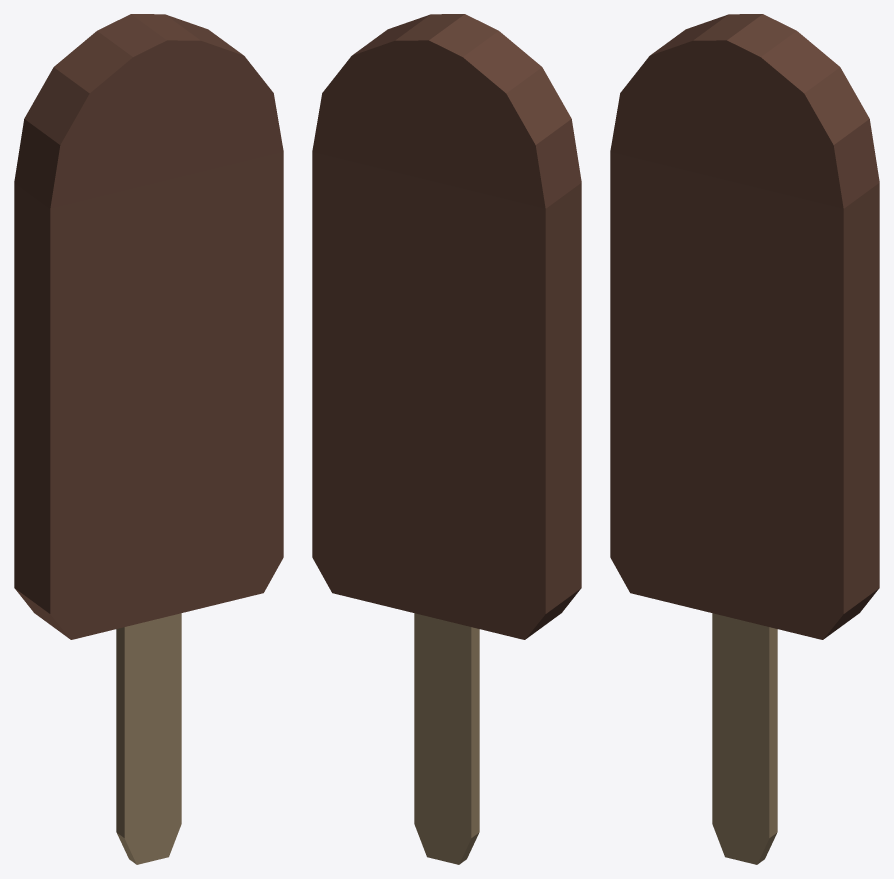
The model's file is quaternius-ultimate-food-popsicle-chocolate.glb.
The picture shows the model from 3 angles, left to right: view 1: azimuth 30°, elevation 25°; view 2: azimuth 150°, elevation 25°; view 3: azimuth 330°, elevation 25°; orthographic projection.
Parts seen in each view (by area): view 1: Popsicle_Chocolate; view 2: Popsicle_Chocolate; view 3: Popsicle_Chocolate.
Part boxes in pixels (x1,y1,x2,y2): Popsicle_Chocolate: [14, 14, 283, 864]; Popsicle_Chocolate: [312, 14, 581, 864]; Popsicle_Chocolate: [610, 14, 879, 864].
Size of the model in its own units: 0.291 by 0.99 by 0.0799.
